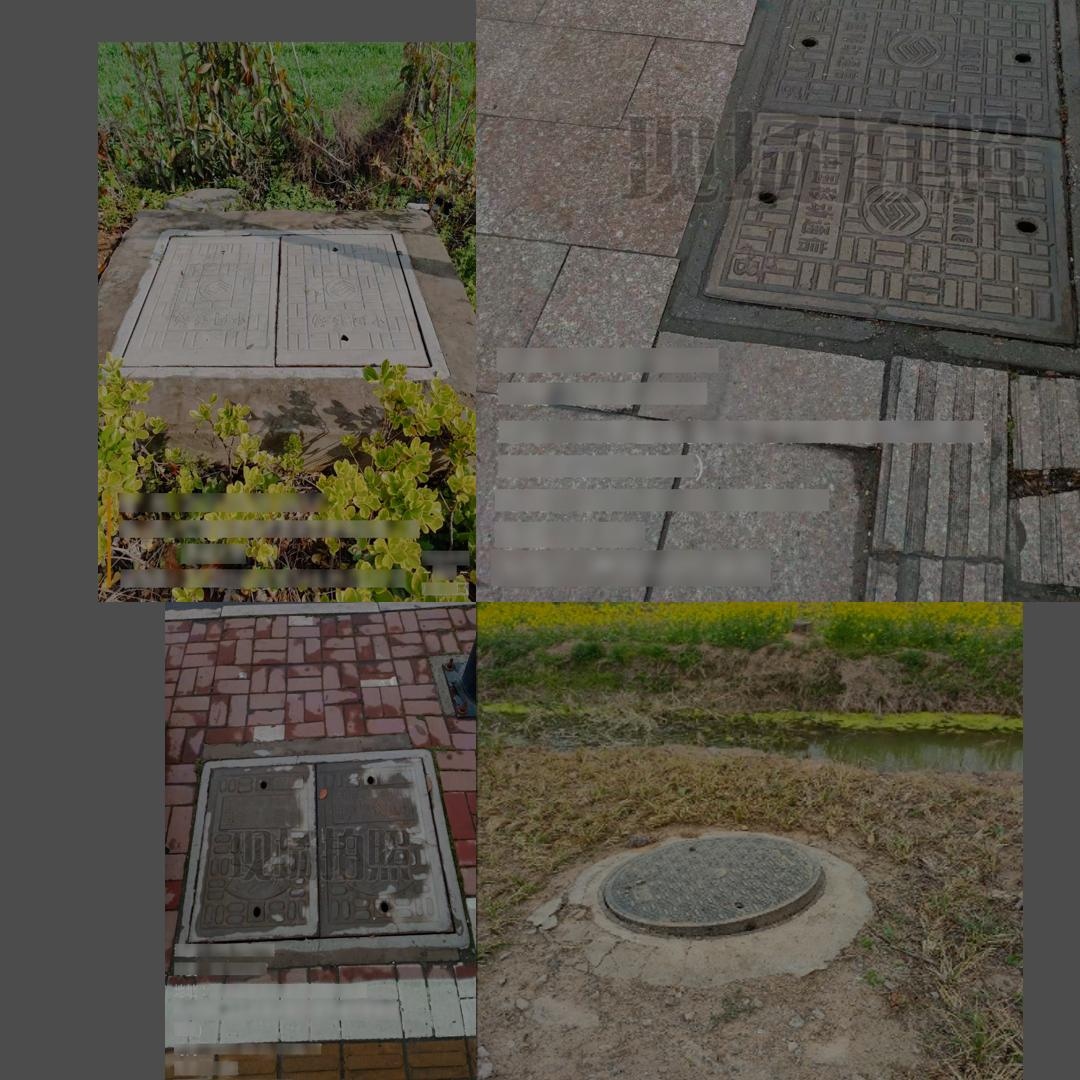good: (668, 0, 1080, 378), (175, 747, 469, 949), (105, 226, 450, 381), (594, 836, 823, 937)
